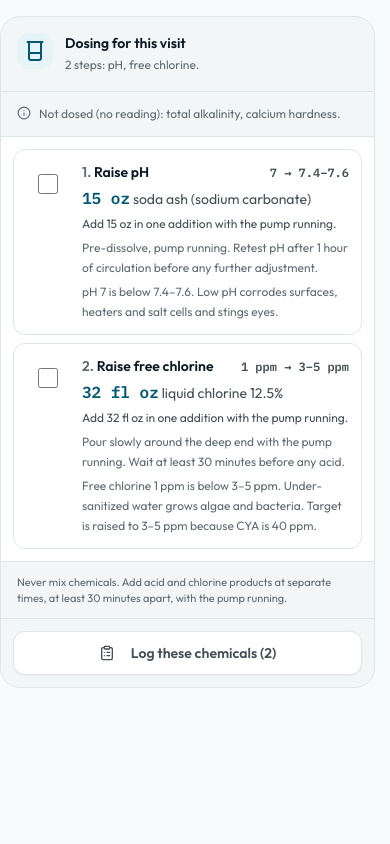
Scenario: DosingRecommendations › pre-fills the chemical usage flow with one entry per dosed step
The image size is (390, 844).
Click the button "Log these chemicals (2)".
click(188, 653)  # box [13,631,362,675]
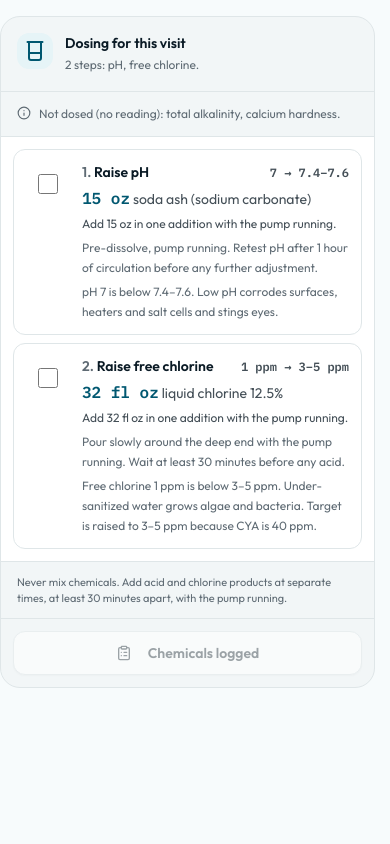
Check: the button "Chemicals logged" is disabled, box [13,631,362,675]
